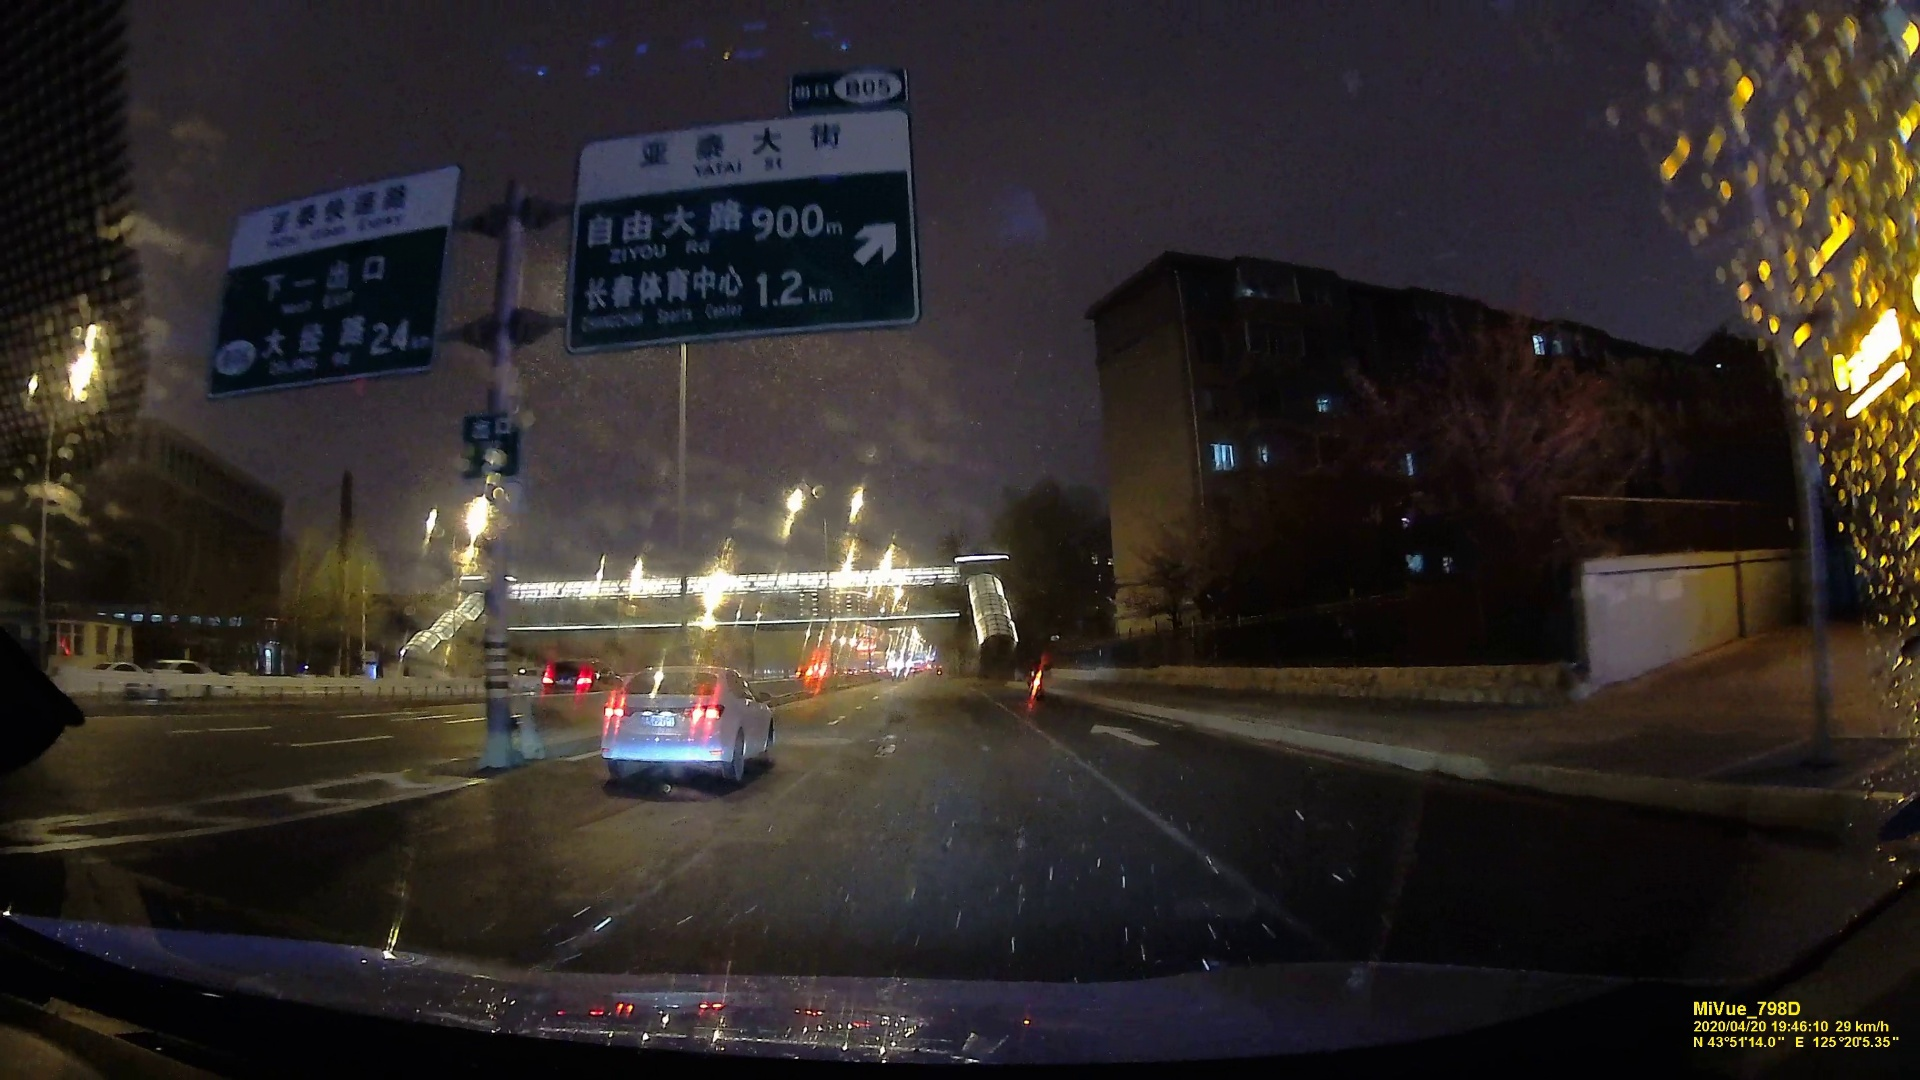traffic_sign: (574, 138, 909, 322), (229, 202, 425, 368), (458, 411, 524, 484)
vehicle: (588, 666, 785, 789), (135, 659, 225, 704), (538, 659, 597, 691)
